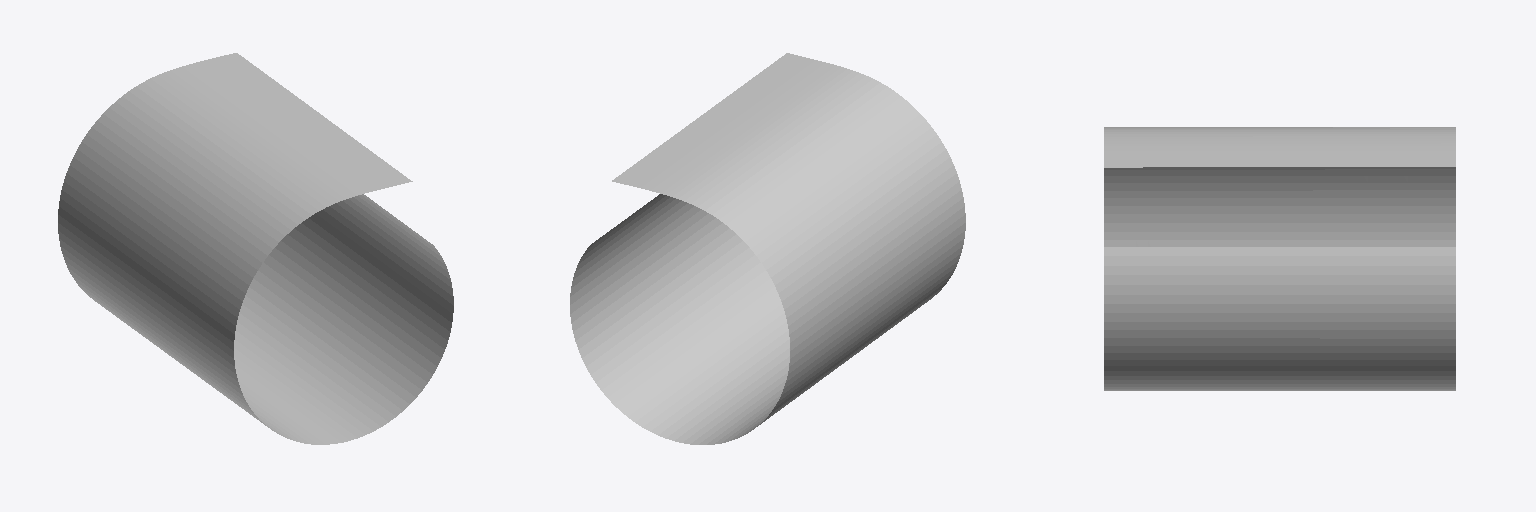
The model's file is CurvePaper_000010.obj.
The picture shows the model from 3 angles: view 1: azimuth 30°, elevation 25°; view 2: azimuth 150°, elevation 25°; view 3: azimuth 270°, elevation 25°; orthographic projection.
Parts seen in each view (by area): view 1: Plane; view 2: Plane; view 3: Plane.
Part boxes in pixels (left/top/right/bottom): Plane: left=58, top=53, right=453, bottom=444; Plane: left=570, top=53, right=965, bottom=444; Plane: left=1104, top=127, right=1455, bottom=390.
Bounding box in the file's own units: 1.64 × 1.74 × 2.26.